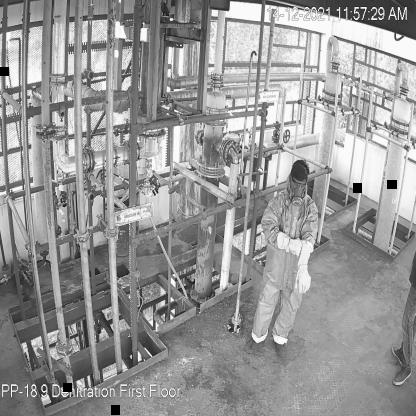goggles: (288, 178, 305, 188)
mask: (288, 186, 304, 207)
